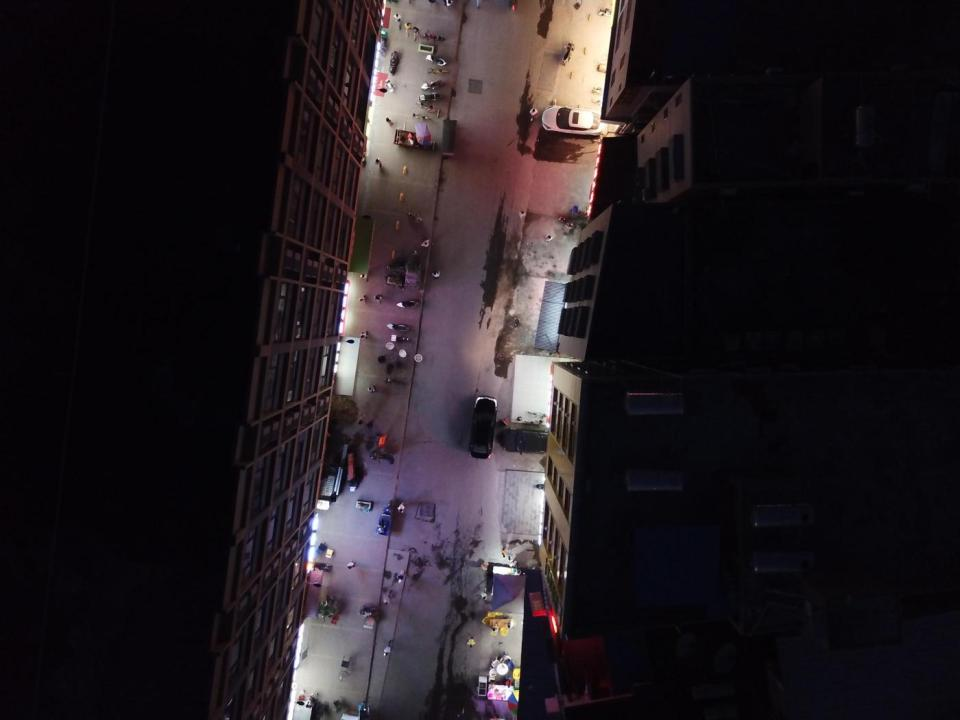car: (468, 396, 498, 458), (542, 106, 604, 136), (500, 428, 559, 456)
